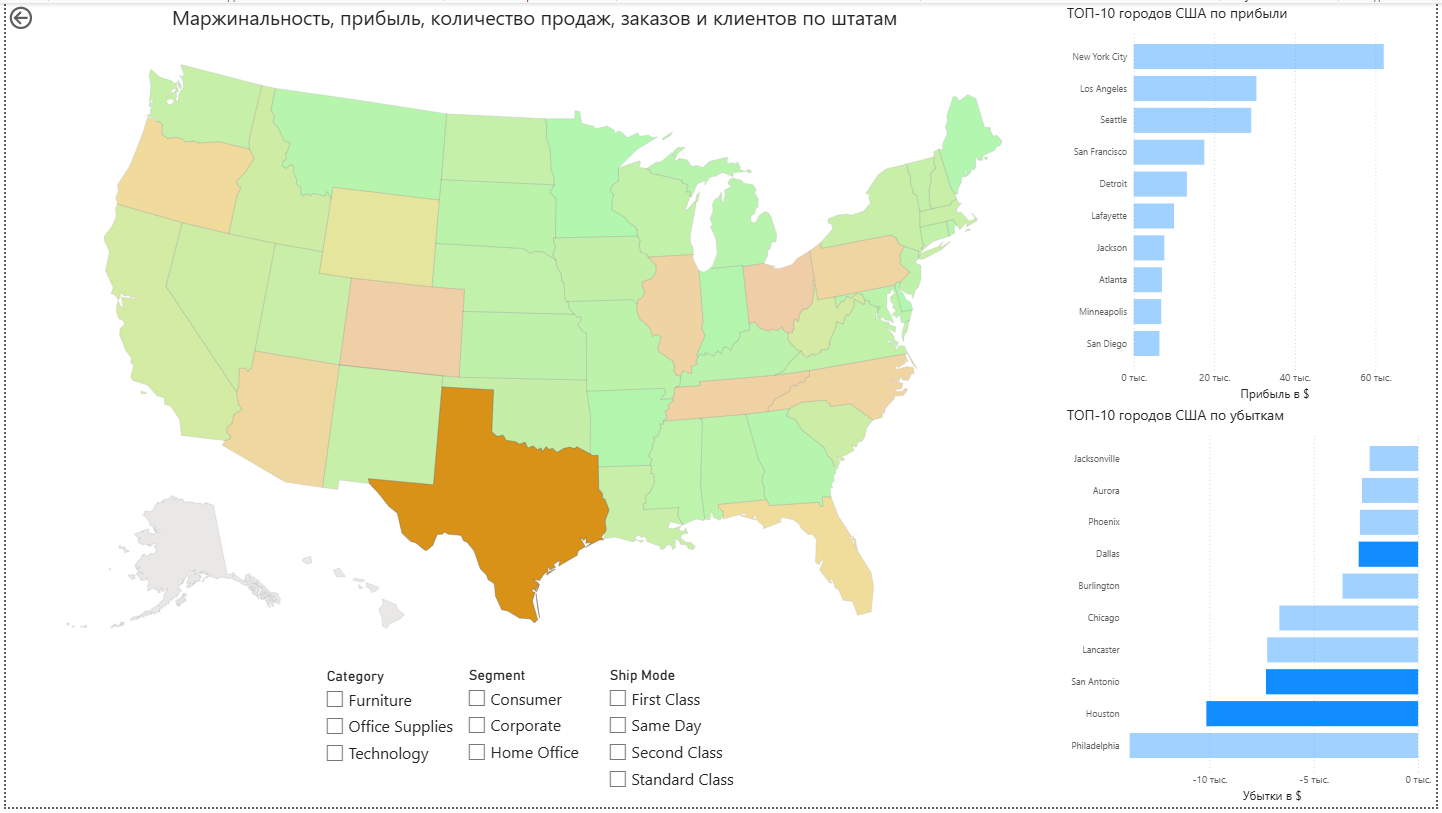

The dashboard page shown, as its layout file describes it:
{"tool":"powerbi","page":{"name":"Страница 2","canvas":[1920,1080],"ordinal":1},"visuals":[{"type":"shapeMap","title":"Маржинальность, прибыль, количество продаж, заказов и клиентов по штатам","fields":{"Value":["data_processed.Profit Margin"],"Category":["data_processed.State"]},"box":[0,0,1420,886.7],"z":0},{"type":"slicer","fields":{"Values":["data_processed.Category"]},"box":[418.3,888.3,190,191.7],"z":1000},{"type":"slicer","fields":{"Values":["data_processed.Segment"]},"box":[608.3,886.7,190,153.3],"z":2000},{"type":"slicer","fields":{"Values":["data_processed.Ship Mode"]},"box":[798.3,886.7,196.7,193.3],"z":3000},{"type":"clusteredBarChart","title":"ТОП-10 городов США по прибыли","fields":{"Category":["data_processed.City"],"Y":["data_processed.Total Profit"]},"box":[1420,0,500,540],"z":4000},{"type":"actionButton","box":[0,0,100,40],"z":5000},{"type":"clusteredBarChart","title":"ТОП-10 городов США по убыткам","fields":{"Category":["data_processed.City"],"Y":["data_processed.Total Profit"]},"box":[1420,540,500,540],"z":6000}]}

Visuals, with their boxes in screenshot pixels (x1, y1, x2, y2), scaled from the page's 1920x1080 canvas onto the 1442x813 screenshot:
"Маржинальность, прибыль, количество продаж, заказов и клиентов по штатам" shapeMap: detection(0, 0, 1066, 667)
slicer - data_processed.Category: detection(314, 669, 457, 812)
slicer - data_processed.Segment: detection(457, 667, 600, 783)
slicer - data_processed.Ship Mode: detection(600, 667, 747, 812)
"ТОП-10 городов США по прибыли" clusteredBarChart: detection(1066, 0, 1441, 406)
actionButton: detection(0, 0, 75, 30)
"ТОП-10 городов США по убыткам" clusteredBarChart: detection(1066, 406, 1441, 812)
